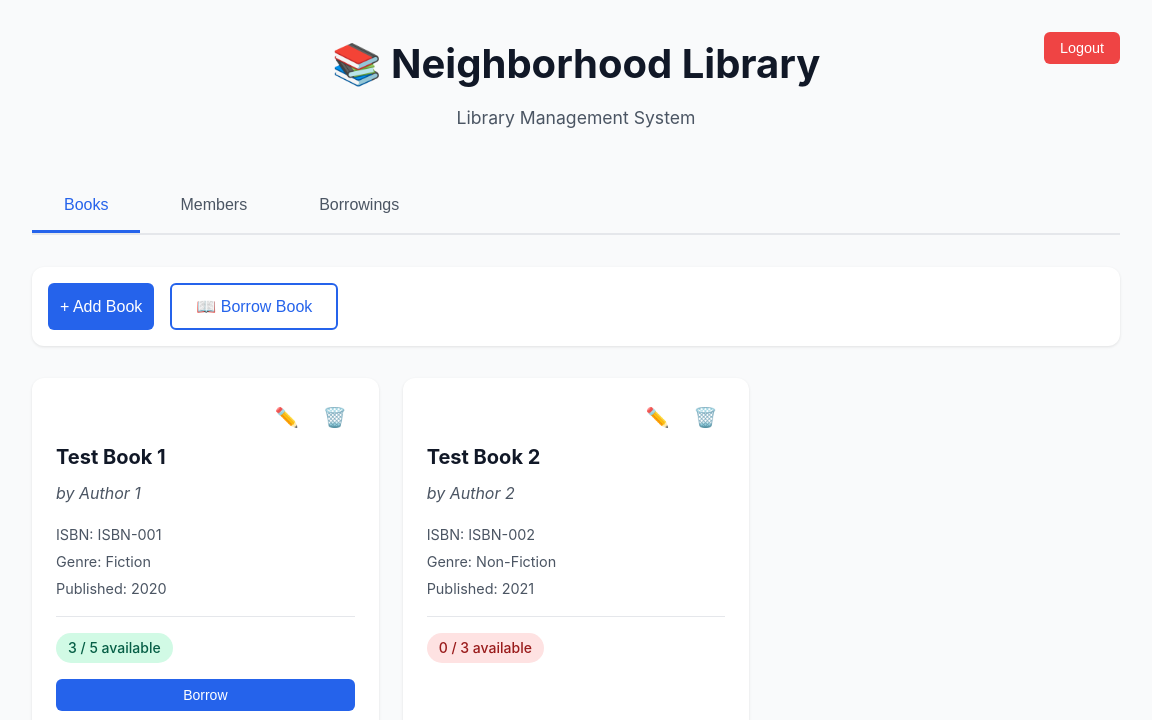
Scenario: Home Page › Custom Confirmation Modal › should show custom confirmation modal on delete member
Step 1. Click the button "Members" → (214, 207), box [148,180,279,233]
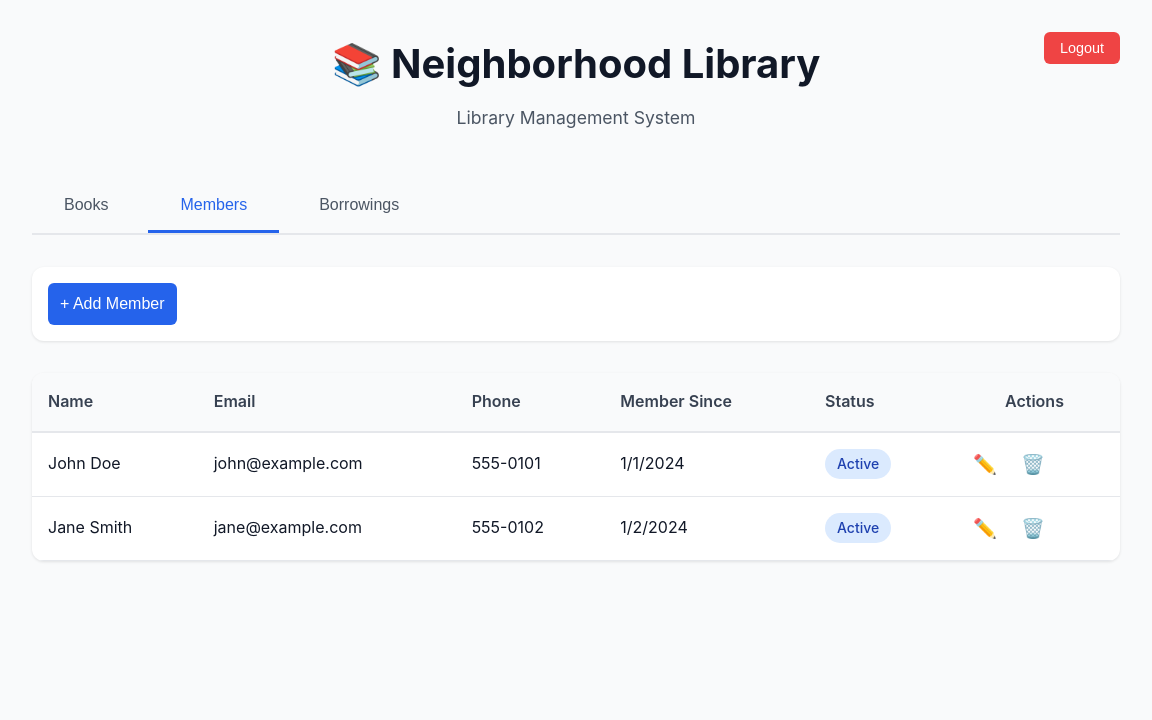
Expected: the text "John Doe" is shown, [32,432,198,496]
Step 2. Click the button titled "Delete" in the row of "Doe" → (1033, 464), box [1013,449,1053,480]
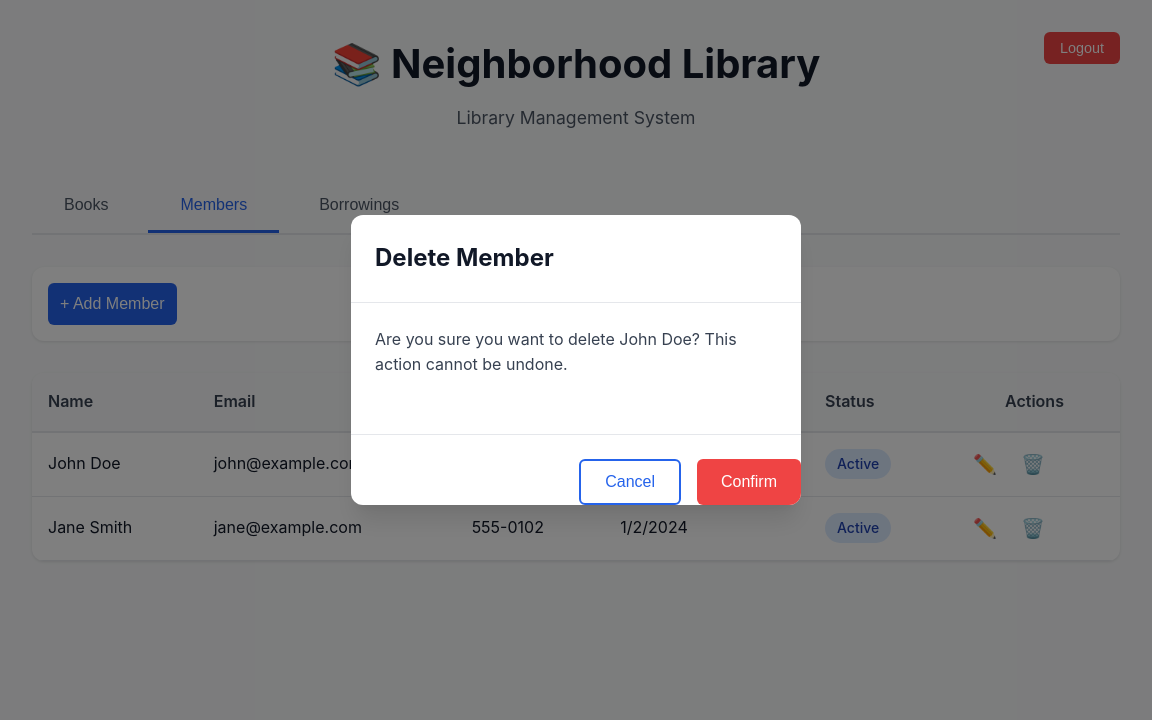
Expected: the heading "Delete Member" is shown, [375,239,554,278]
Expected: the text "Are you sure" is shown, [375,329,737,374]
